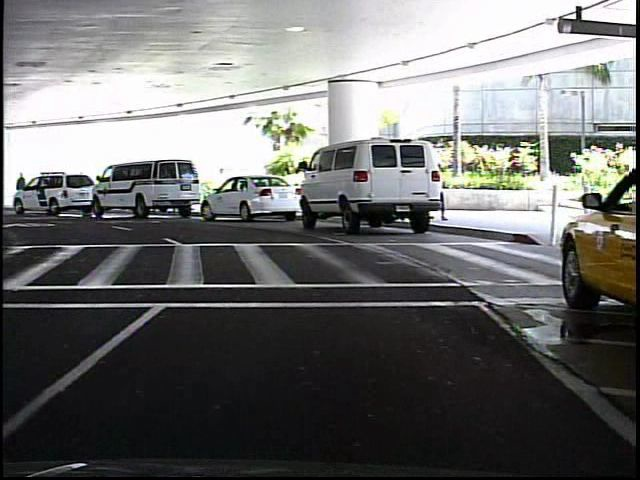person: (16, 170, 33, 208)
